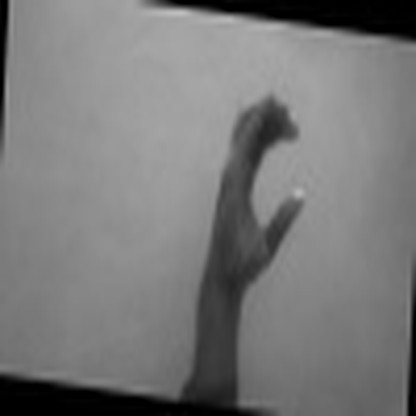c: (205, 91, 314, 287)
